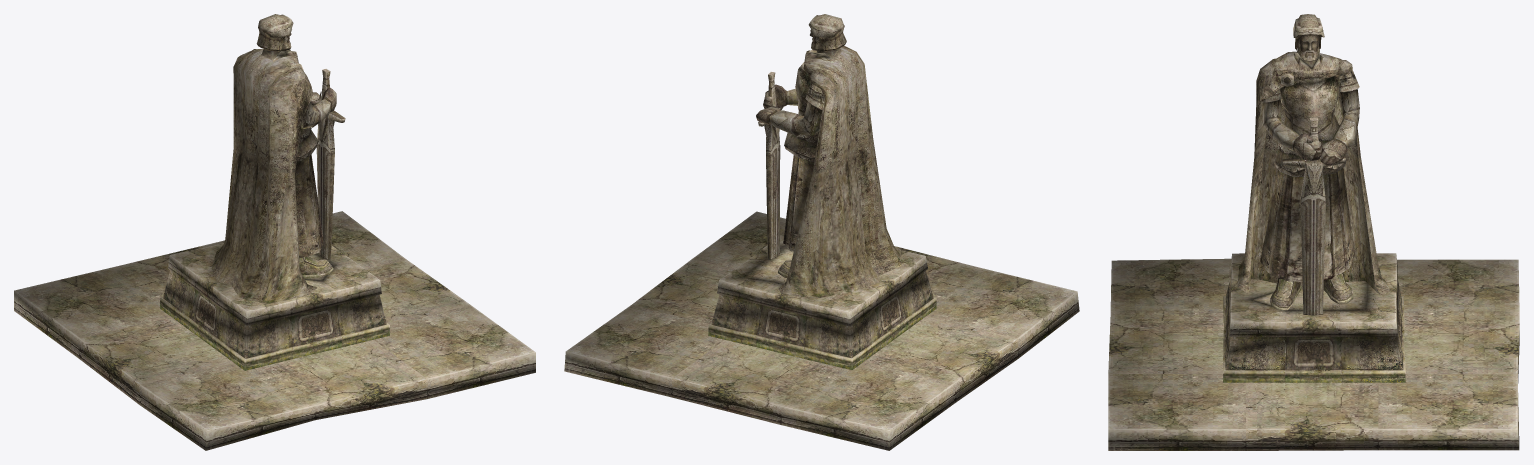
The model's file is OZ_23_wv_stonST01A.glb.
3 views of the same model, side by side, from view 1: azimuth 30°, elevation 25°; view 2: azimuth 150°, elevation 25°; view 3: azimuth 270°, elevation 25° (orthographic). The views are drawn at different scales.
Visible parts, largest first — view 1: OM_23_wv_stonST01A; view 2: OM_23_wv_stonST01A; view 3: OM_23_wv_stonST01A.
Boxes of the visible parts, x1,y1,x2,y2 form: OM_23_wv_stonST01A: [14, 14, 535, 450]; OM_23_wv_stonST01A: [564, 14, 1079, 450]; OM_23_wv_stonST01A: [1108, 14, 1519, 450].
Bounding box in the file's own units: 18.45 × 17.44 × 18.77.
2 materials, 2 textured.
